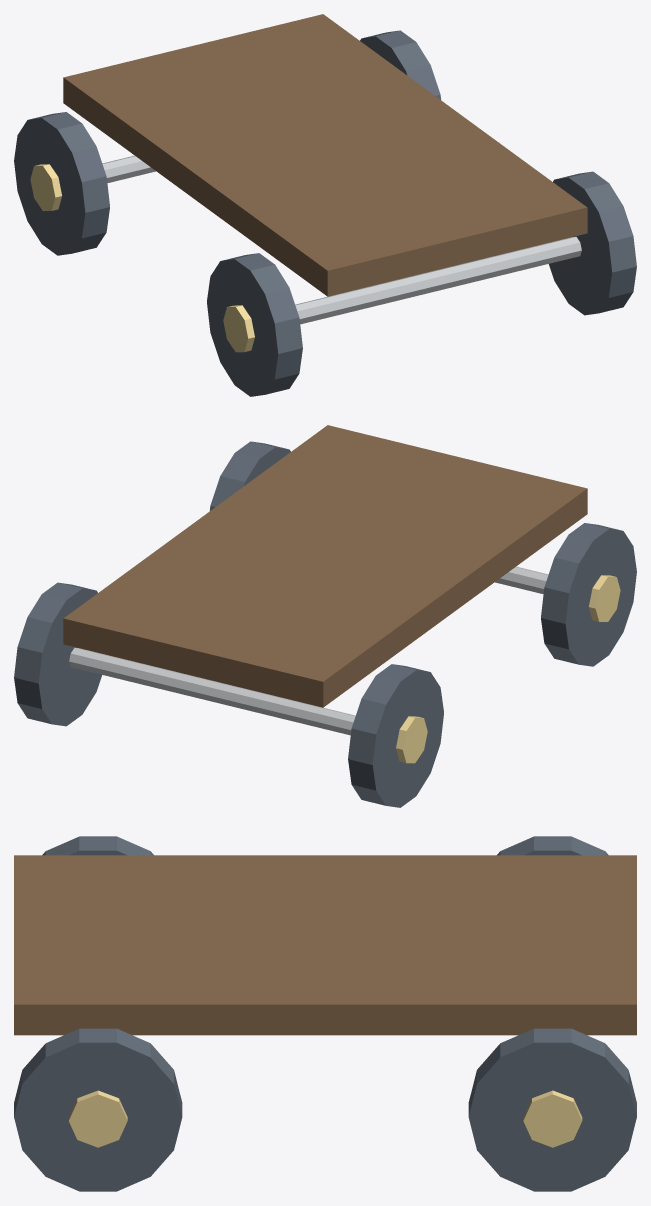
Rendered from cart_wheels.glb.
3 views of the same model, one above another, from view 1: azimuth 30°, elevation 25°; view 2: azimuth 150°, elevation 25°; view 3: azimuth 270°, elevation 25° (orthographic). The views are drawn at different scales.
Visible parts, largest first — view 1: Chassis, Wheel.-0.27.-1, Axle.-0.27, Hub.-0.27.-1; view 2: Chassis, Wheel.-0.27.-1, Axle.-0.27, Hub.-0.27.-1; view 3: Chassis, Wheel.-0.27.-1, Hub.-0.27.-1.
Boxes of the visible parts, box(x1,y1,x2,y2) form: Chassis: box(63, 14, 587, 296); Wheel.-0.27.-1: box(14, 30, 636, 396); Axle.-0.27: box(102, 155, 581, 324); Hub.-0.27.-1: box(30, 164, 254, 352); Chassis: box(63, 425, 587, 707); Wheel.-0.27.-1: box(14, 441, 636, 807); Axle.-0.27: box(69, 566, 548, 735); Hub.-0.27.-1: box(396, 575, 620, 763); Chassis: box(14, 855, 636, 1035); Wheel.-0.27.-1: box(14, 836, 636, 1191); Hub.-0.27.-1: box(68, 1090, 582, 1147).
Size of the model in its own units: 0.602 by 0.2075 by 0.74.
